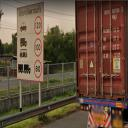speed_limit_100: (33, 36, 42, 59)
speed_limit_120: (33, 14, 44, 35)
speed_limit_80: (33, 58, 43, 80)
